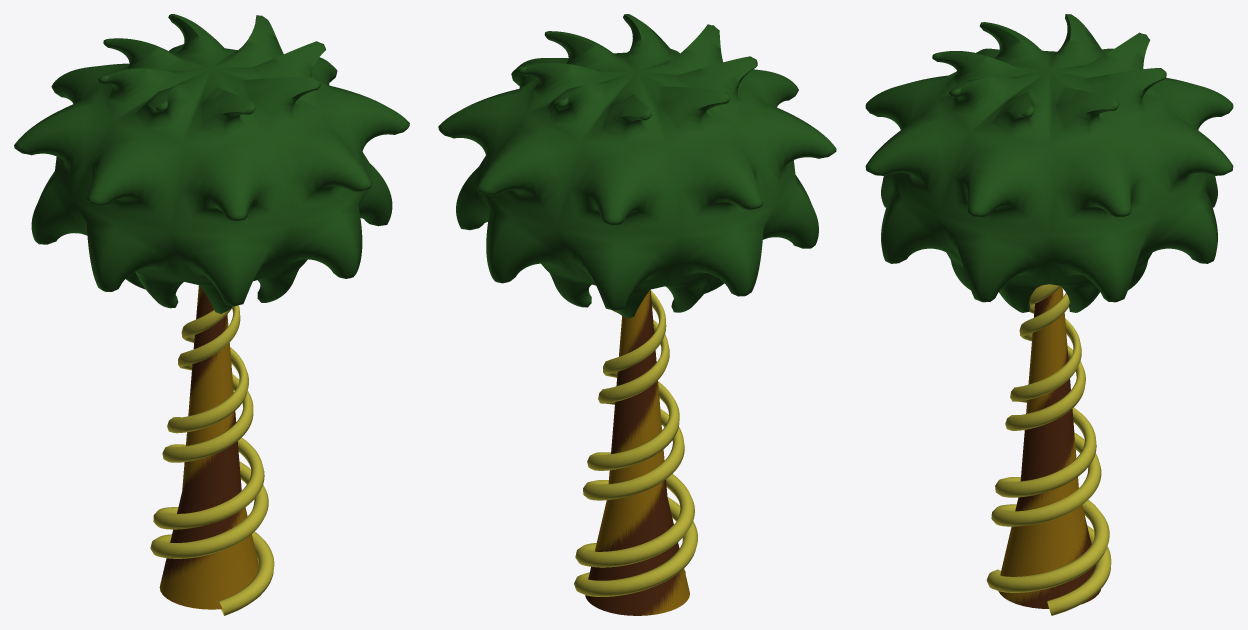
Rendered from DK's Jungle Parkway Tree 3.dae.
3 renders of one model, left to right at view 1: azimuth 30°, elevation 25°; view 2: azimuth 150°, elevation 25°; view 3: azimuth 270°, elevation 25°, orthographic.
Visible parts, largest first — view 1: Leaves, Tree, Vines; view 2: Leaves, Tree, Vines; view 3: Leaves, Vines, Tree.
Boxes of the visible parts, box(x1,y1,x2,y2) form: Leaves: box(14, 14, 409, 313); Tree: box(159, 285, 261, 609); Vines: box(150, 305, 274, 615); Leaves: box(438, 14, 836, 318); Tree: box(585, 289, 689, 615); Vines: box(574, 290, 697, 596); Leaves: box(865, 14, 1233, 312); Vines: box(986, 284, 1111, 615); Tree: box(998, 285, 1100, 608).
Size of the model in its own units: 45.92 by 73.19 by 45.92.
Materials: 3 (3 with a texture image).
